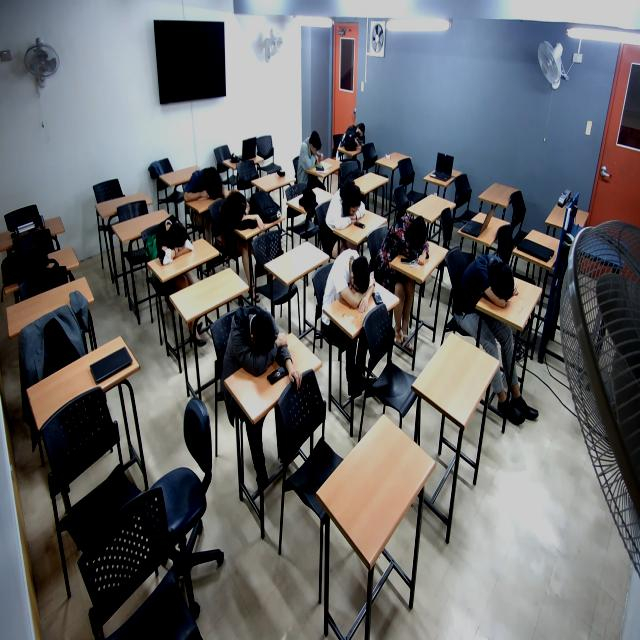sleep: (230, 312, 291, 375), (137, 212, 191, 279), (460, 258, 519, 318), (380, 223, 434, 281), (326, 255, 379, 312), (220, 190, 268, 242), (327, 183, 368, 232), (182, 171, 227, 202), (353, 120, 367, 158)
